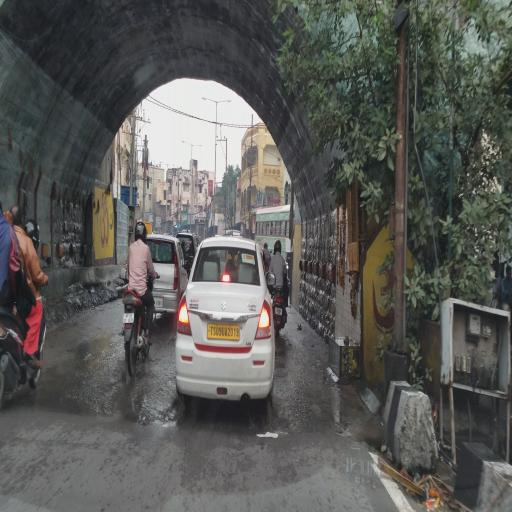street_light_0: (197, 81, 215, 111), (217, 90, 235, 112), (178, 132, 194, 154), (191, 135, 205, 154)
